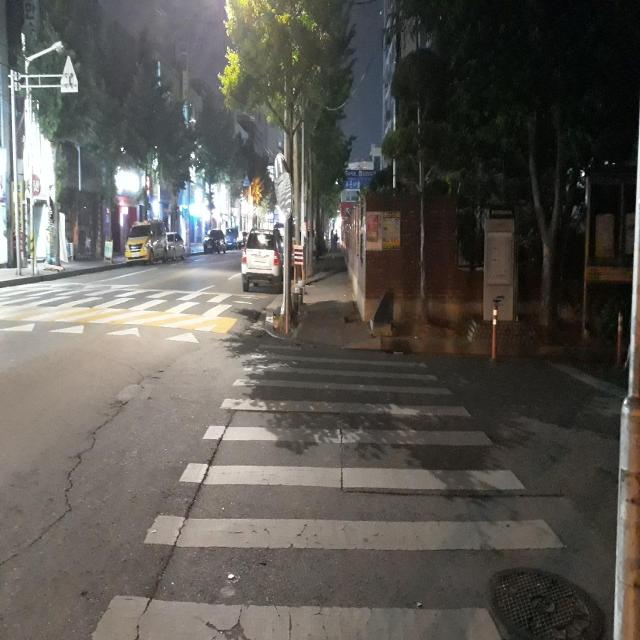횡단보도: (88, 340, 565, 640), (0, 279, 241, 315)
